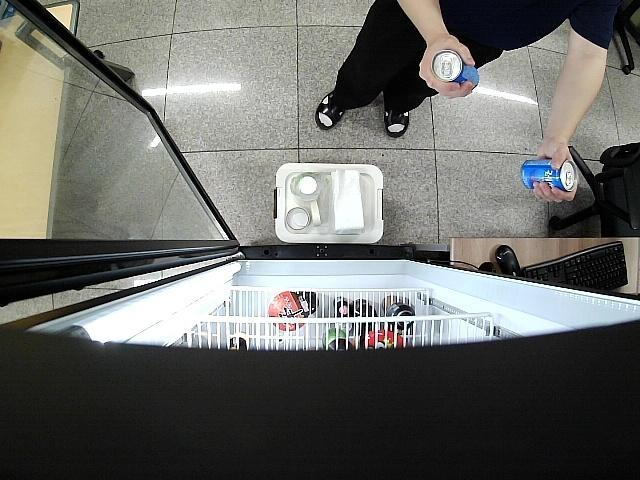15_letsbe: (522, 156, 578, 192), (431, 49, 479, 88)
